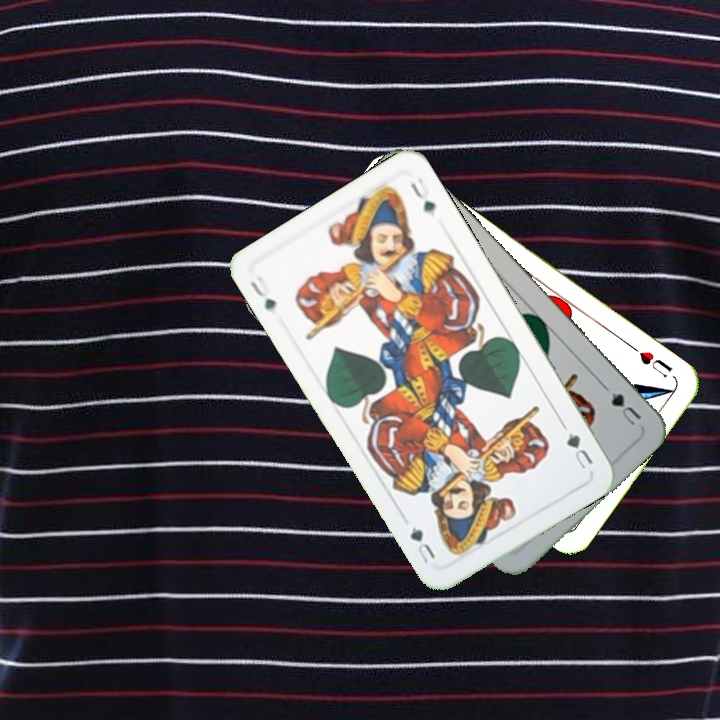GU: (607, 388, 644, 429), (562, 428, 596, 472), (246, 271, 279, 315)
HU: (626, 341, 676, 381)
